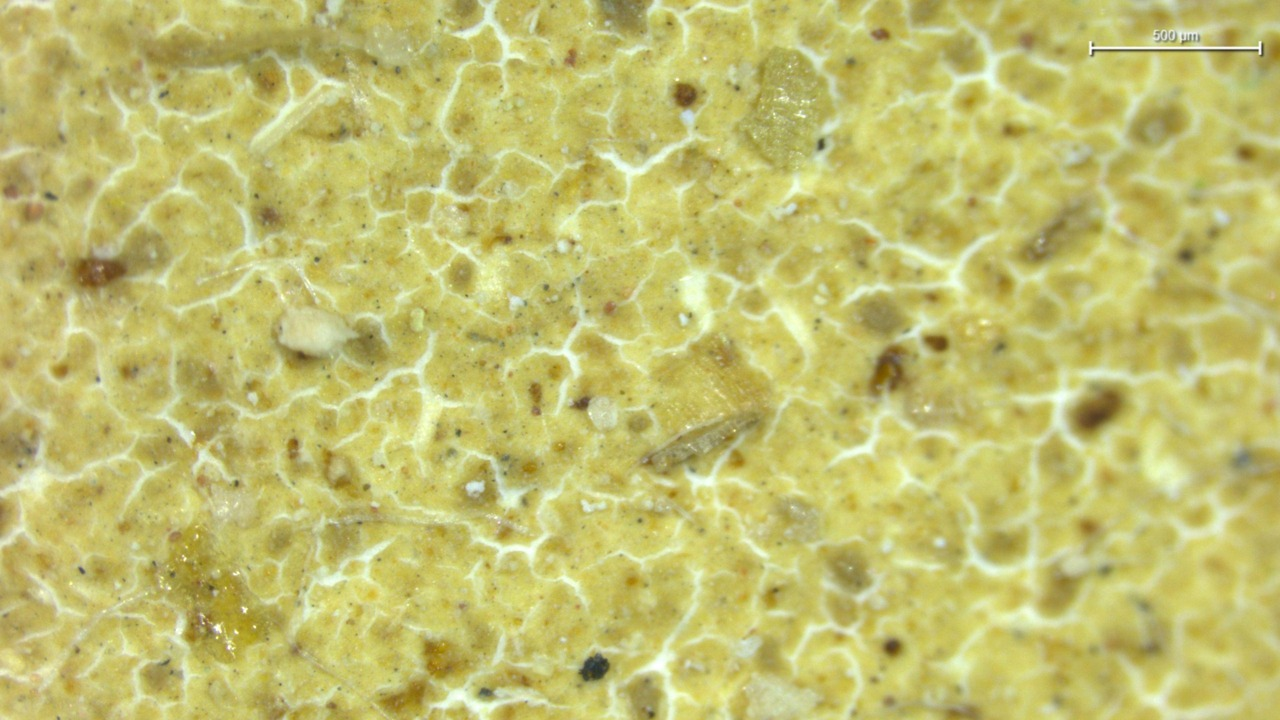microplastic_fragment: (740, 49, 828, 169), (277, 306, 359, 357)
